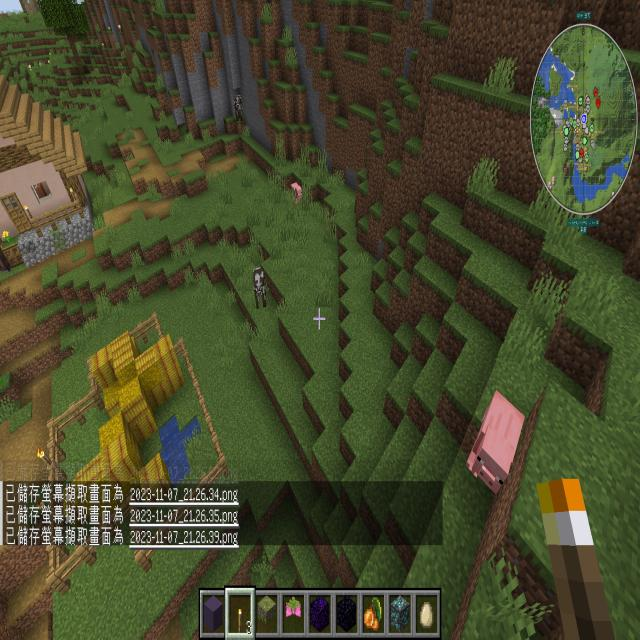cow: (249, 261, 270, 314), (229, 91, 248, 129)
pig: (462, 381, 528, 509), (288, 179, 308, 208)
